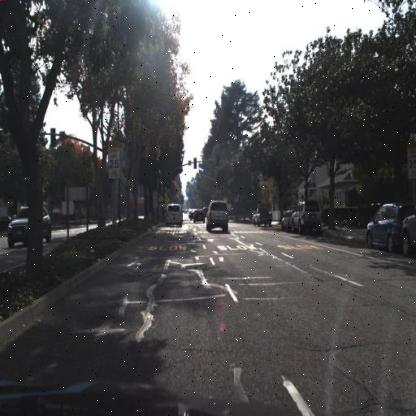car: (364, 203, 415, 250), (6, 203, 52, 247), (290, 198, 324, 234), (291, 200, 324, 236), (204, 200, 230, 235), (252, 202, 274, 230), (163, 201, 183, 230), (280, 208, 296, 231), (191, 209, 205, 226), (202, 206, 212, 218)
trafficLight-Green: (143, 259, 148, 274), (193, 156, 198, 170), (216, 154, 221, 168)
